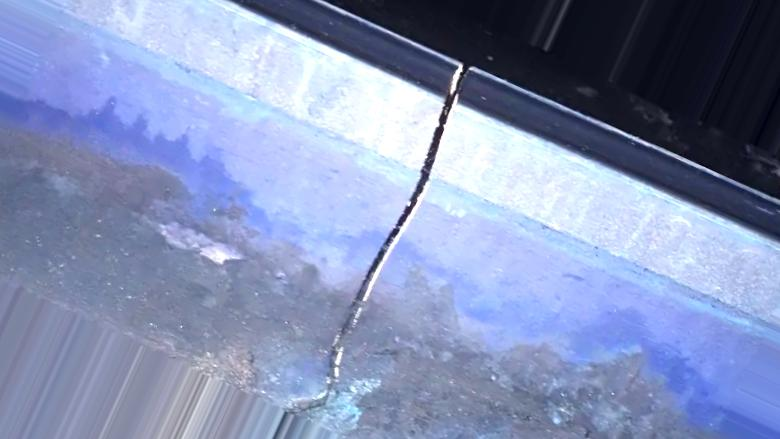tracks_fault: (282, 57, 512, 423)
